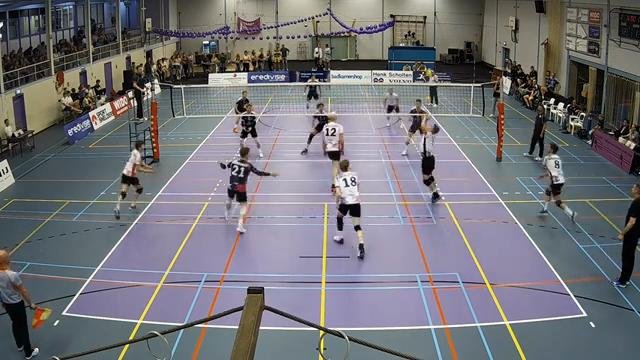alzata: (410, 105, 447, 209)
